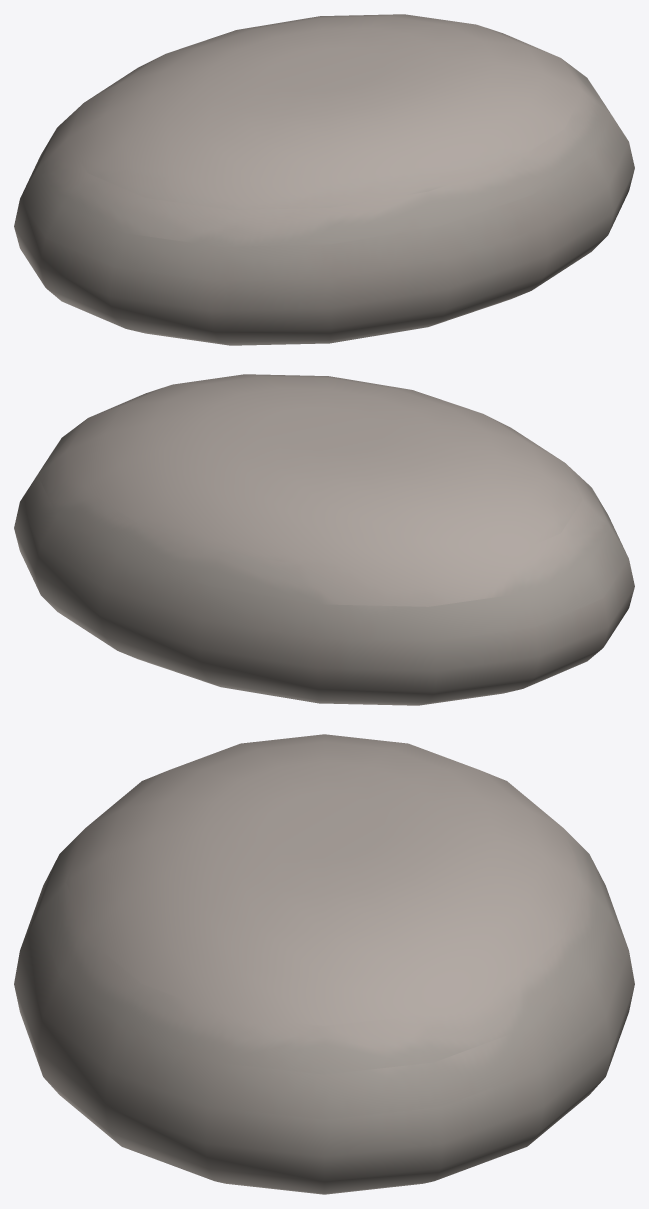
File: batu_4.fbx
The picture shows the model from 3 angles, top to bottom: view 1: azimuth 30°, elevation 25°; view 2: azimuth 150°, elevation 25°; view 3: azimuth 270°, elevation 25°; orthographic projection. The views are drawn at different scales.
Parts seen in each view (by area): view 1: batu_4; view 2: batu_4; view 3: batu_4.
Boxes of the visible parts, box(x1,y1,x2,y2) form: batu_4: box(14, 14, 634, 345); batu_4: box(14, 374, 634, 705); batu_4: box(14, 734, 634, 1194).
Size of the model in its own units: 1.11 by 0.3711 by 0.8426.
1 material, 1 textured.
